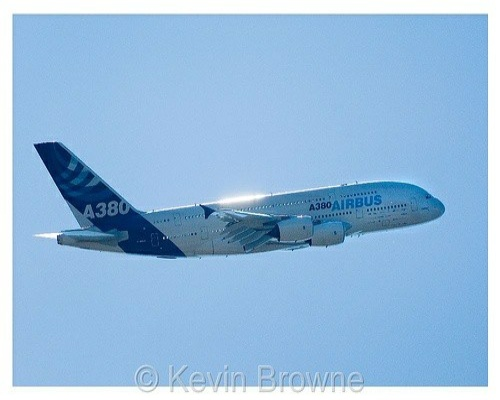plane: (27, 137, 448, 263)
